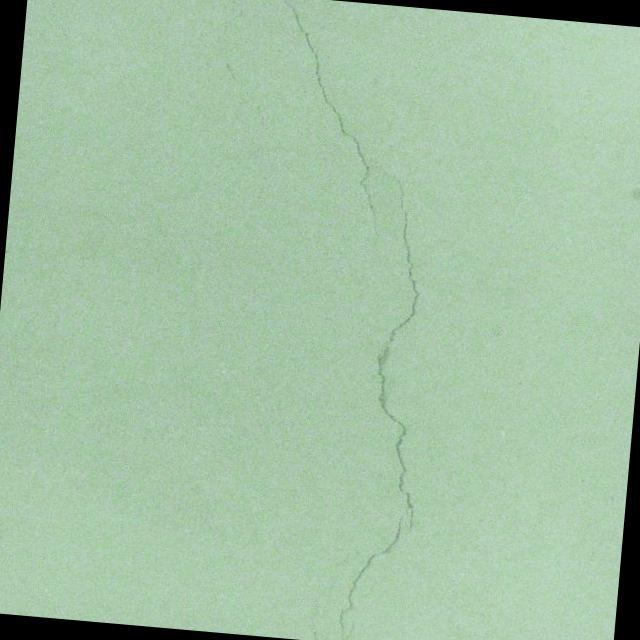crack: (342, 160, 446, 534), (257, 0, 396, 247), (206, 0, 278, 159), (336, 511, 403, 640), (308, 565, 344, 640), (216, 161, 236, 209)
